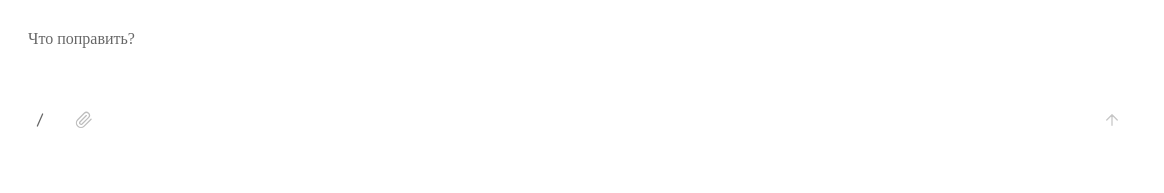
Test: the window of commands › says why a command typed in whole cannot be run now, and runs nothing
The image size is (1164, 193).
Step 1. Type "/release" into the text box named "Сообщение" → (585, 56), box left=18, top=18, right=1152, bottom=94
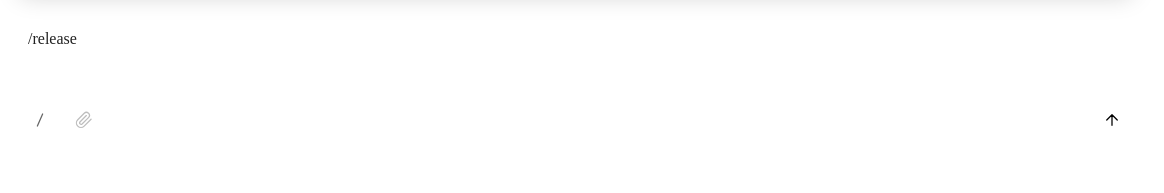
Step 2. Press Escape in the text box named "Сообщение", box left=18, top=18, right=1152, bottom=94
Step 3. Click the button named "Отправить" → click(1112, 120), box left=1090, top=98, right=1134, bottom=142
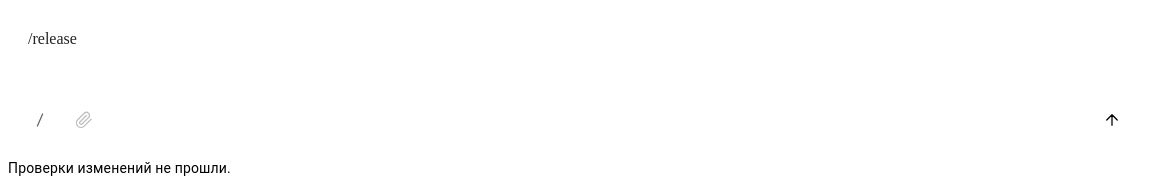
Expected: the message reads "Проверки изменений не прошли.", left=8, top=160, right=231, bottom=176
Step 4. Replace the text in the text box named "Сообщение" with "/releas" → (585, 56), box left=18, top=18, right=1152, bottom=94
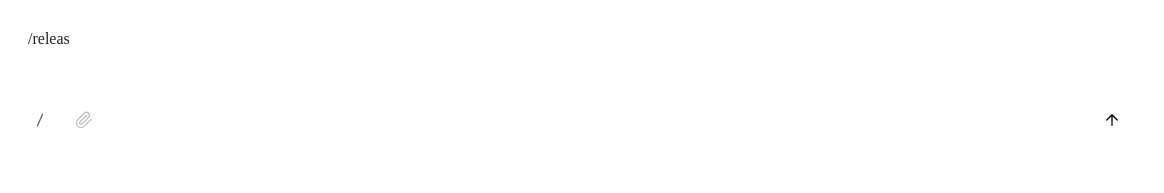
Expected: the message "Проверки изменений не прошли." is gone
